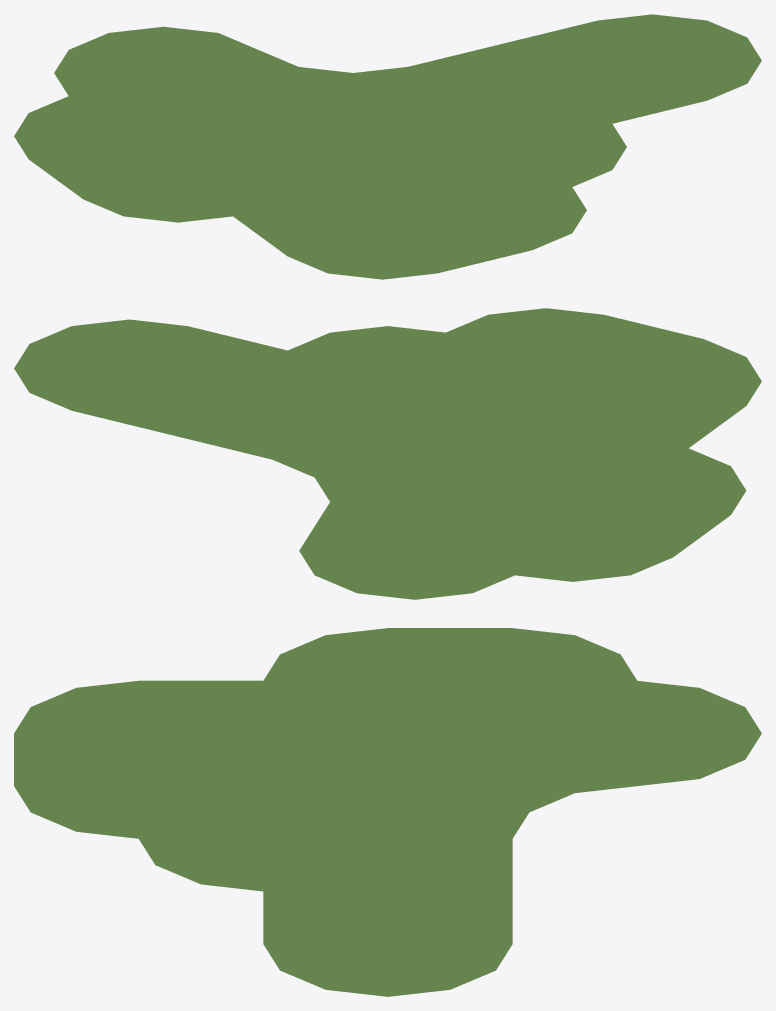
The model's file is off-leash-area.glb.
3 views of the same model, one above another, from view 1: azimuth 30°, elevation 25°; view 2: azimuth 150°, elevation 25°; view 3: azimuth 270°, elevation 25° (orthographic). The views are drawn at different scales.
Parts seen in each view (by area): view 1: patch-grass-large; view 2: patch-grass-large; view 3: patch-grass-large.
Boxes of the visible parts, x1,y1,x2,y2 form: patch-grass-large: (14,14,761,279); patch-grass-large: (14,308,761,599); patch-grass-large: (14,628,761,996).
Bounding box in the file's own units: 34.64 × 0 × 29.69.
